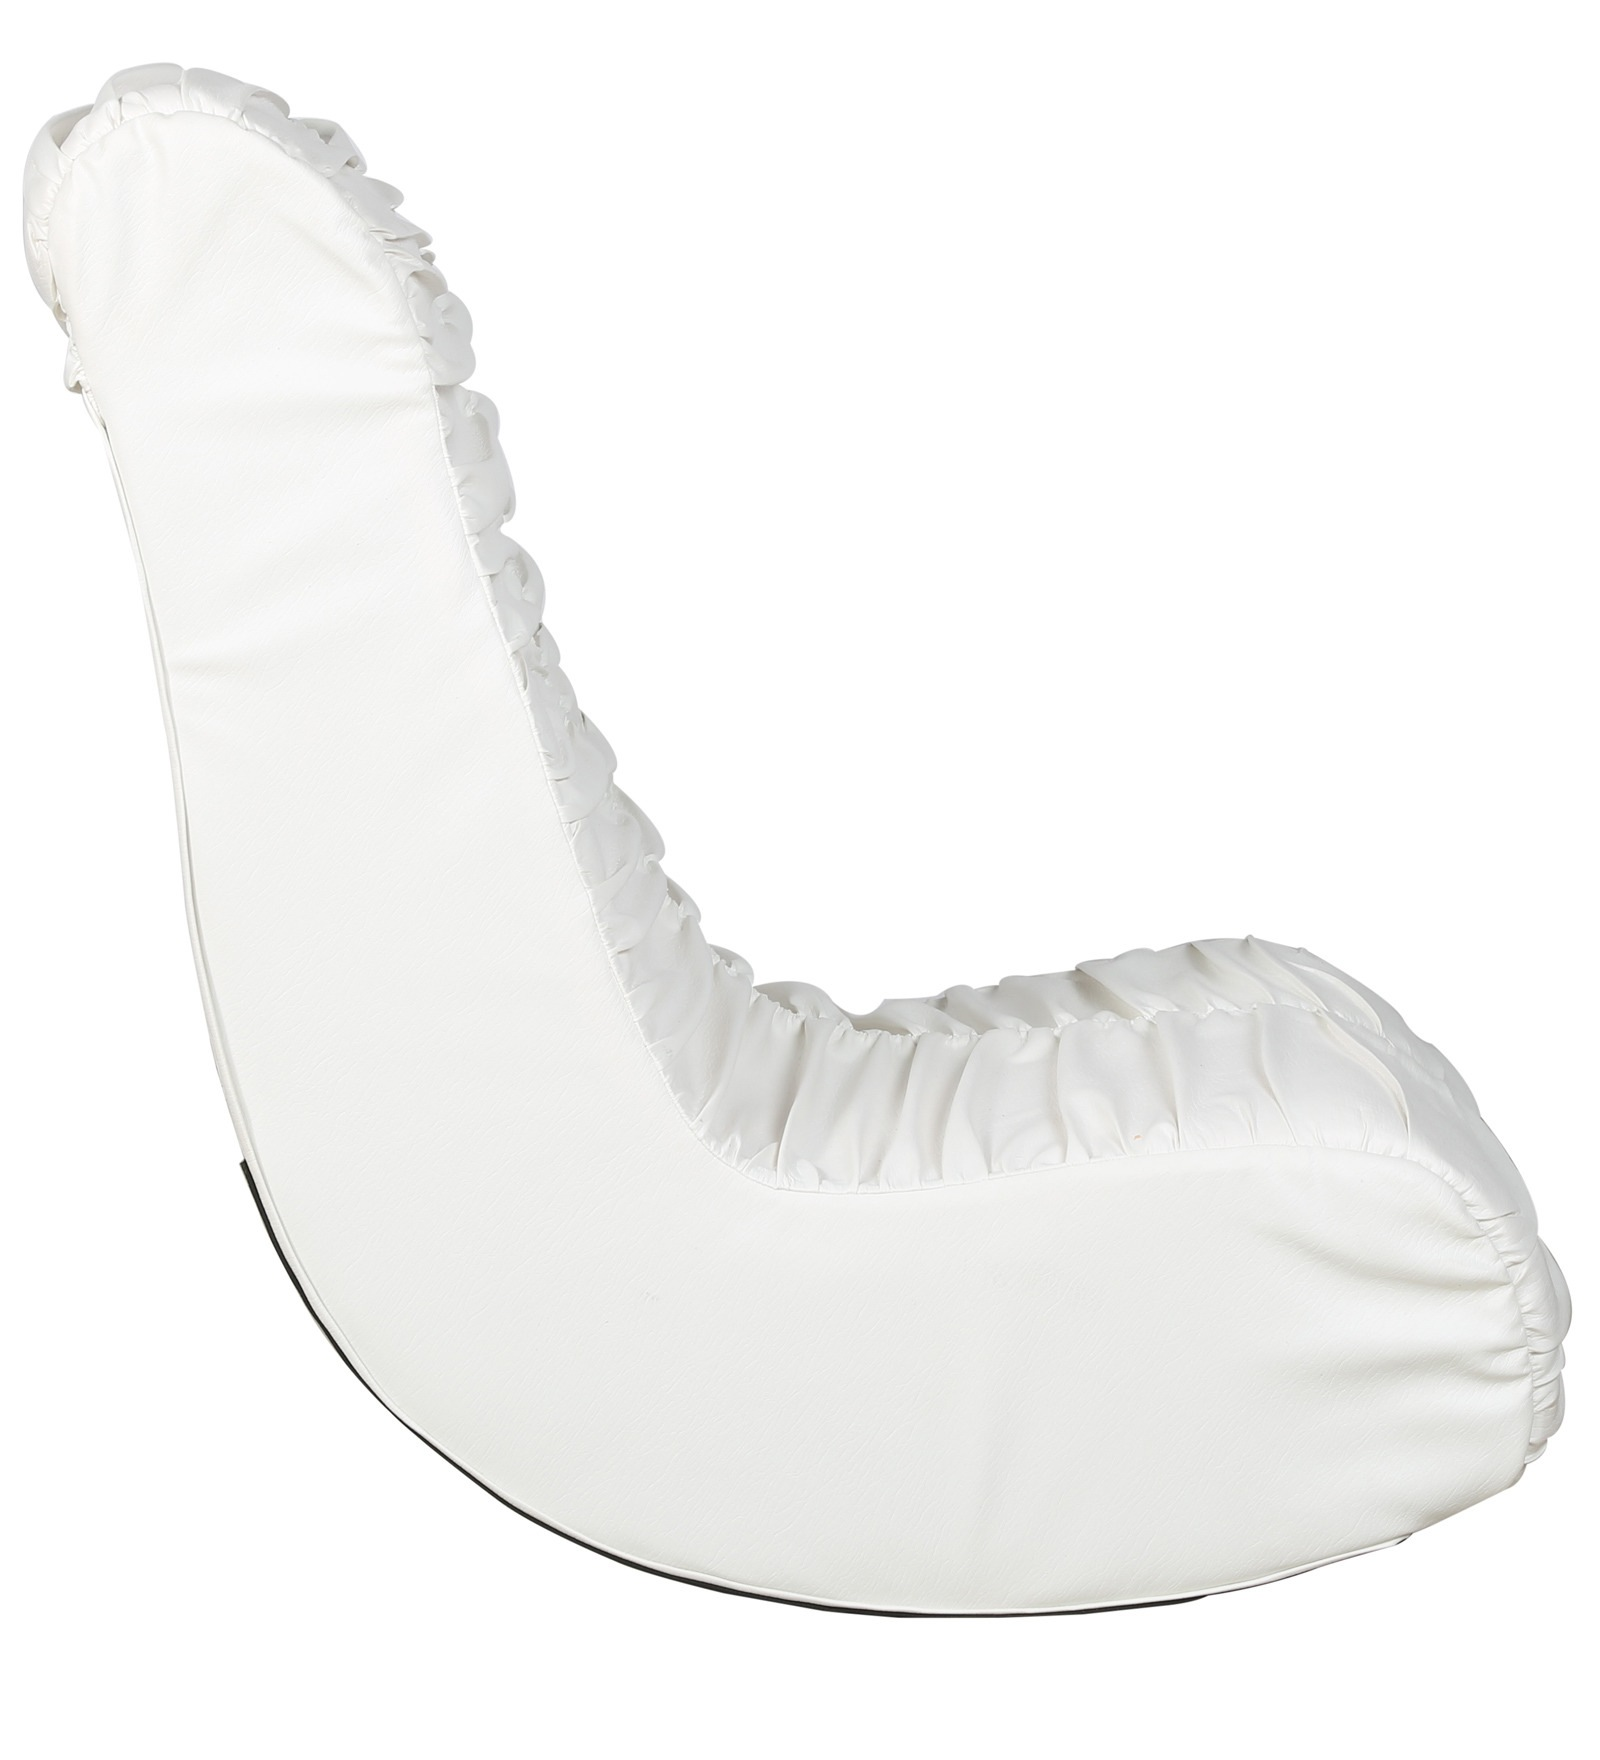Daisy Rocking Chair in White Colour by Parin: (28, 41, 1600, 1624)
